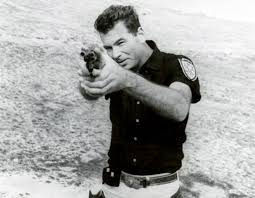Gun: (79, 48, 103, 72)
